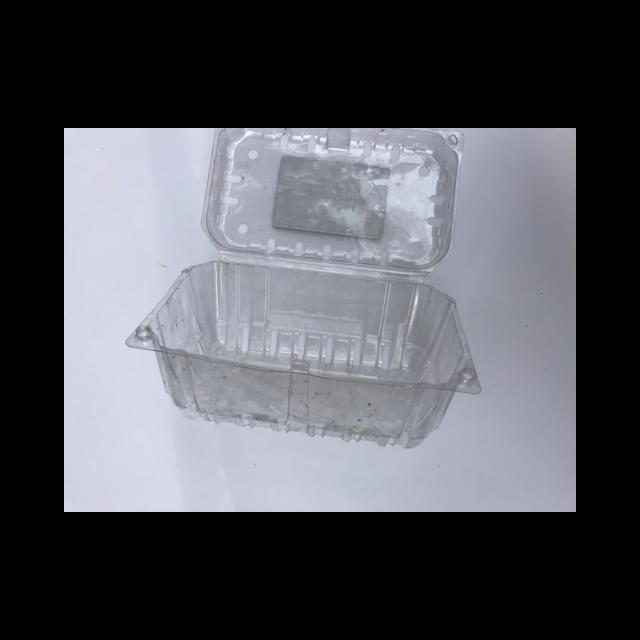plastic: (125, 128, 480, 449), (124, 258, 481, 447), (199, 128, 463, 278)
